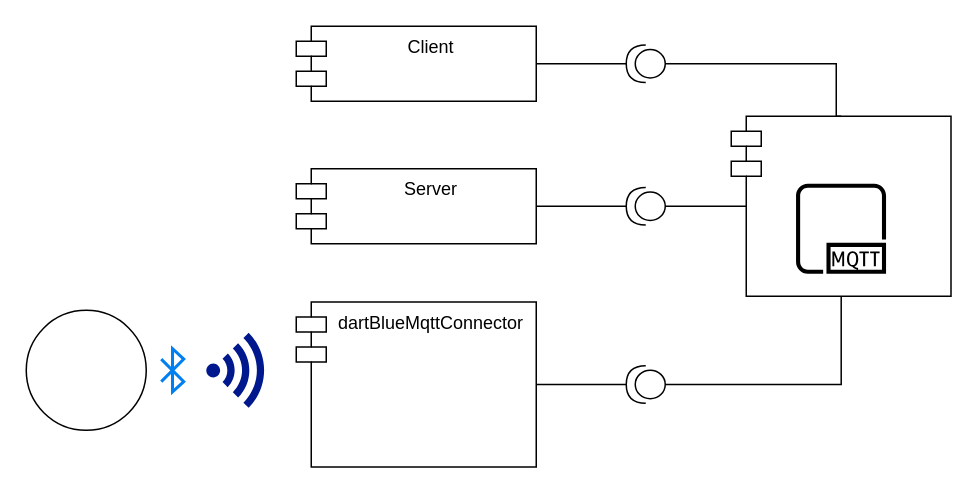
This 978x494 diagram has some shape labels left out. The shapes that lost their labels are listed below. From the top down, each one's box as (x1, y1, x2, y2) in pixels, then its label:
(730, 115, 951, 296): MQTTBroker
(25, 309, 146, 430): Dartboard
